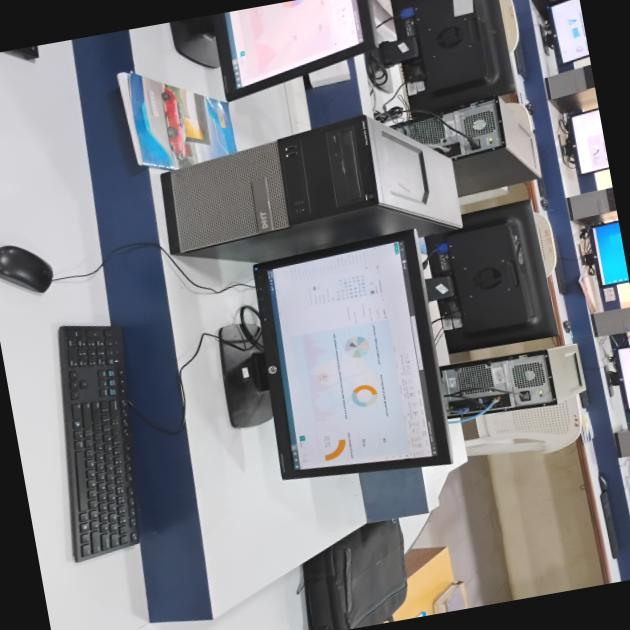computer: (181, 228, 462, 512), (568, 213, 628, 294)
cpu: (138, 100, 472, 276), (441, 316, 593, 422)
keyboard: (15, 304, 162, 574)
mouse: (0, 223, 84, 310)
